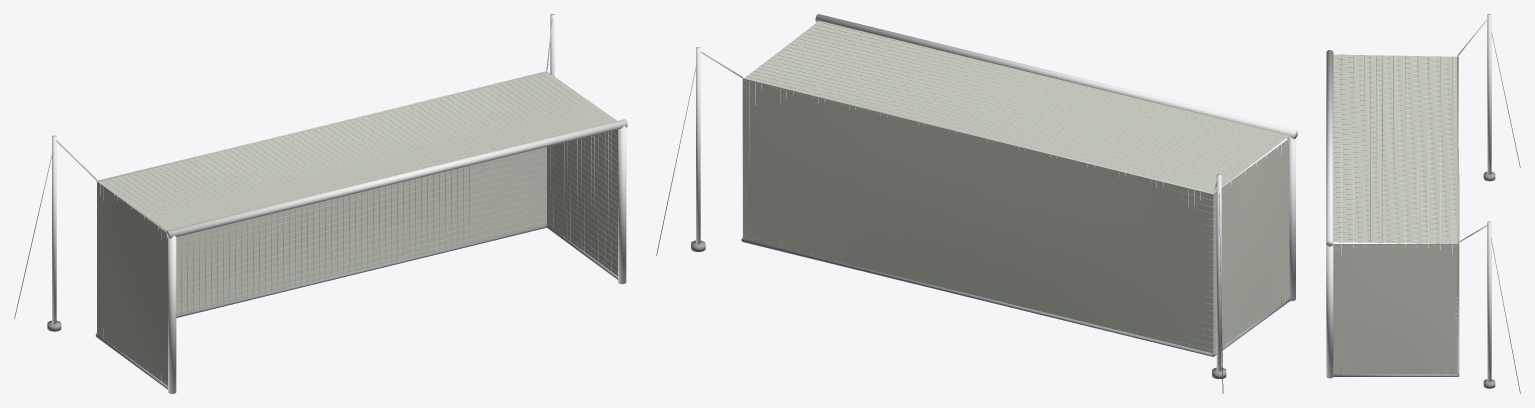
The model's file is stadium_goal.glb.
3 renders of one model, left to right at view 1: azimuth 30°, elevation 25°; view 2: azimuth 150°, elevation 25°; view 3: azimuth 270°, elevation 25°, orthographic. The views are drawn at different scales.
Parts seen in each view (by area): view 1: StadiumNet, StadiumNetNear, Crossbar, RearGroundRail, MouthPost.001, MouthPost, RearNetPole, RearTopNetCord; view 2: StadiumNet, StadiumNetNear, Crossbar, RearGroundRail, RearNetPole, MouthPost, RearTopNetCord, RearNetPole.001; view 3: StadiumNet, StadiumNetNear, Crossbar, MouthPost.001, RearNetPole, RearNetPole.001, RearTopNetCord, GroundRail.001, RearGroundRail, RearGuyWire.001.
Boxes of the visible parts, x1,y1,x2,y2 form: StadiumNet: (97, 72, 617, 385); StadiumNetNear: (97, 72, 617, 381); Crossbar: (166, 119, 627, 238); RearGroundRail: (176, 224, 546, 317); MouthPost.001: (618, 126, 626, 284); MouthPost: (168, 235, 176, 393); RearNetPole: (52, 135, 56, 324); RearTopNetCord: (96, 71, 547, 181); StadiumNet: (743, 21, 1289, 352); StadiumNetNear: (742, 21, 1289, 350); Crossbar: (815, 14, 1297, 138); RearGroundRail: (742, 239, 1212, 356); RearNetPole: (1216, 174, 1221, 371); MouthPost: (1287, 135, 1295, 301); RearTopNetCord: (742, 78, 1213, 194); RearNetPole.001: (696, 47, 700, 244); StadiumNet: (1333, 54, 1459, 374); StadiumNetNear: (1333, 54, 1457, 373); Crossbar: (1326, 50, 1333, 246); MouthPost.001: (1326, 245, 1333, 378); RearNetPole: (1487, 14, 1491, 174); RearNetPole.001: (1487, 221, 1491, 382); RearTopNetCord: (1457, 56, 1458, 244); GroundRail.001: (1333, 374, 1457, 376); RearGroundRail: (1458, 260, 1459, 376); RearGuyWire.001: (1491, 237, 1520, 393).
Size of the model in its own units: 8.97 by 3.05 by 3.26.
4 materials, 1 textured.
